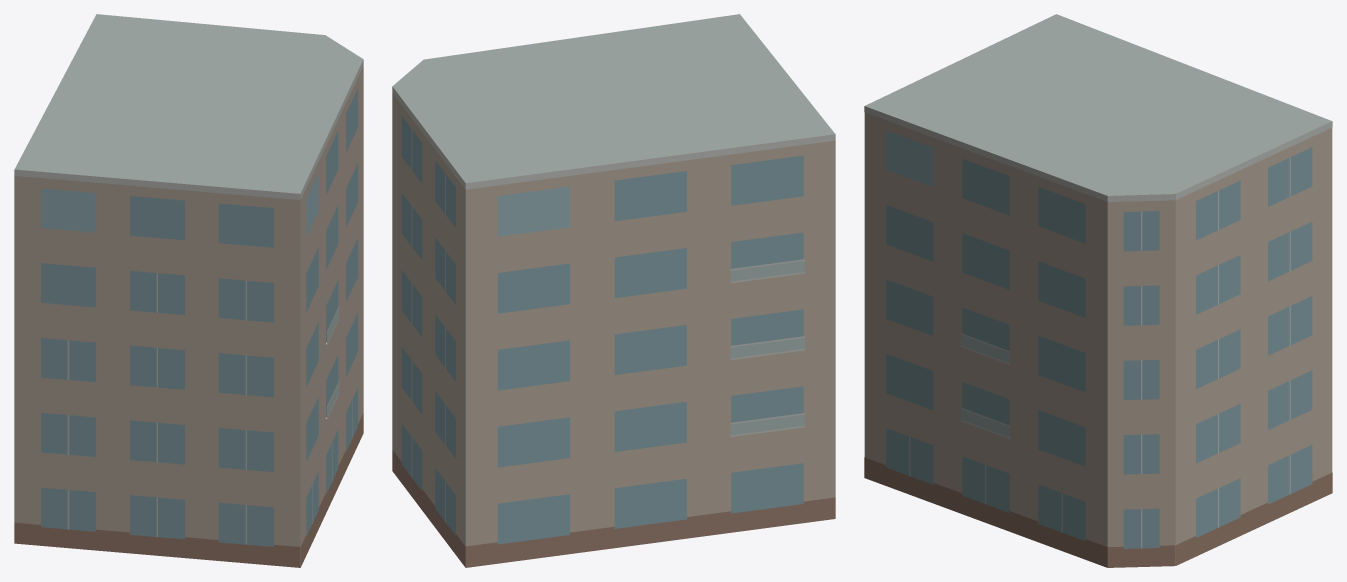
Rendered from survey-upis-32743071.glb.
3 views of the same model, side by side, from view 1: azimuth 30°, elevation 25°; view 2: azimuth 150°, elevation 25°; view 3: azimuth 270°, elevation 25° (orthographic). The views are drawn at different scales.
Parts seen in each view (by area): view 1: survey-upis-32743071.tmp; view 2: survey-upis-32743071.tmp; view 3: survey-upis-32743071.tmp.
Boxes of the visible parts, x1=… form: survey-upis-32743071.tmp: x1=14, y1=14, x2=363, y2=567; survey-upis-32743071.tmp: x1=392, y1=14, x2=835, y2=567; survey-upis-32743071.tmp: x1=864, y1=14, x2=1332, y2=567.
Size of the model in its own units: 15.38 by 14.65 by 16.71.
